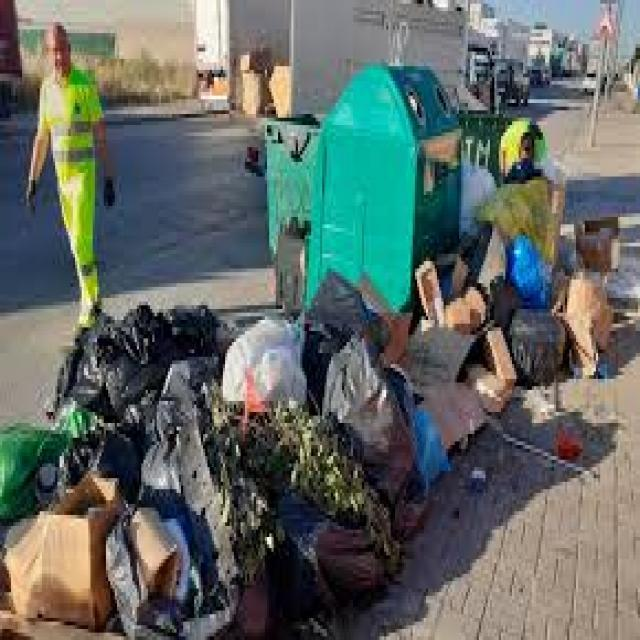garbage: (0, 287, 424, 640), (428, 156, 636, 462)
